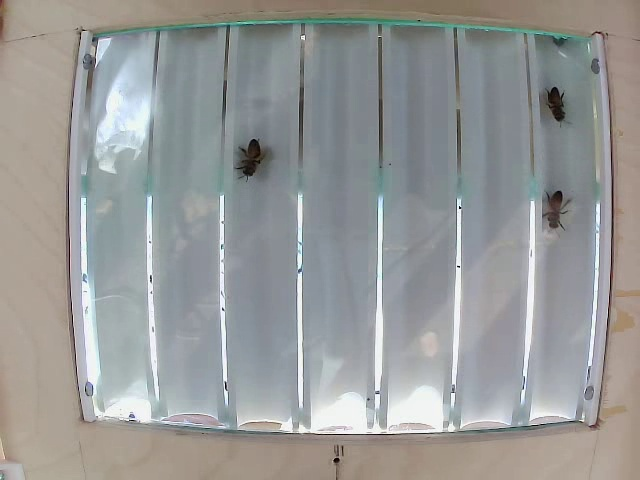bee: (537, 183, 575, 241), (233, 138, 269, 191), (542, 81, 571, 144)
